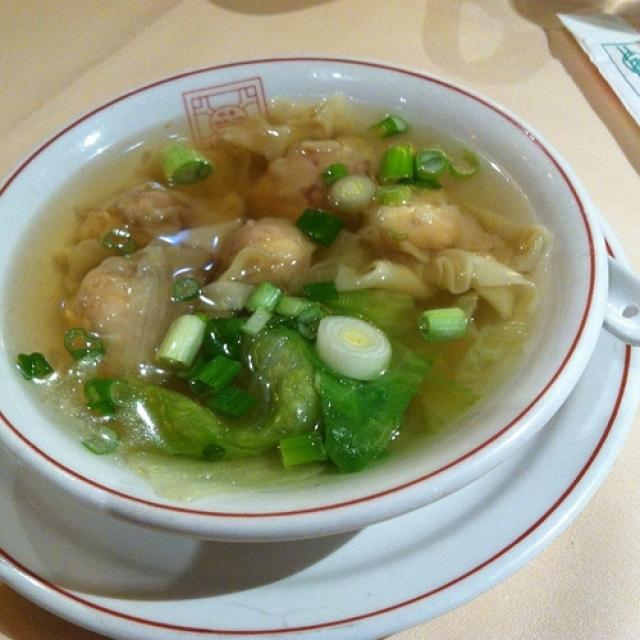汤锅炖物: (4, 58, 581, 512)
